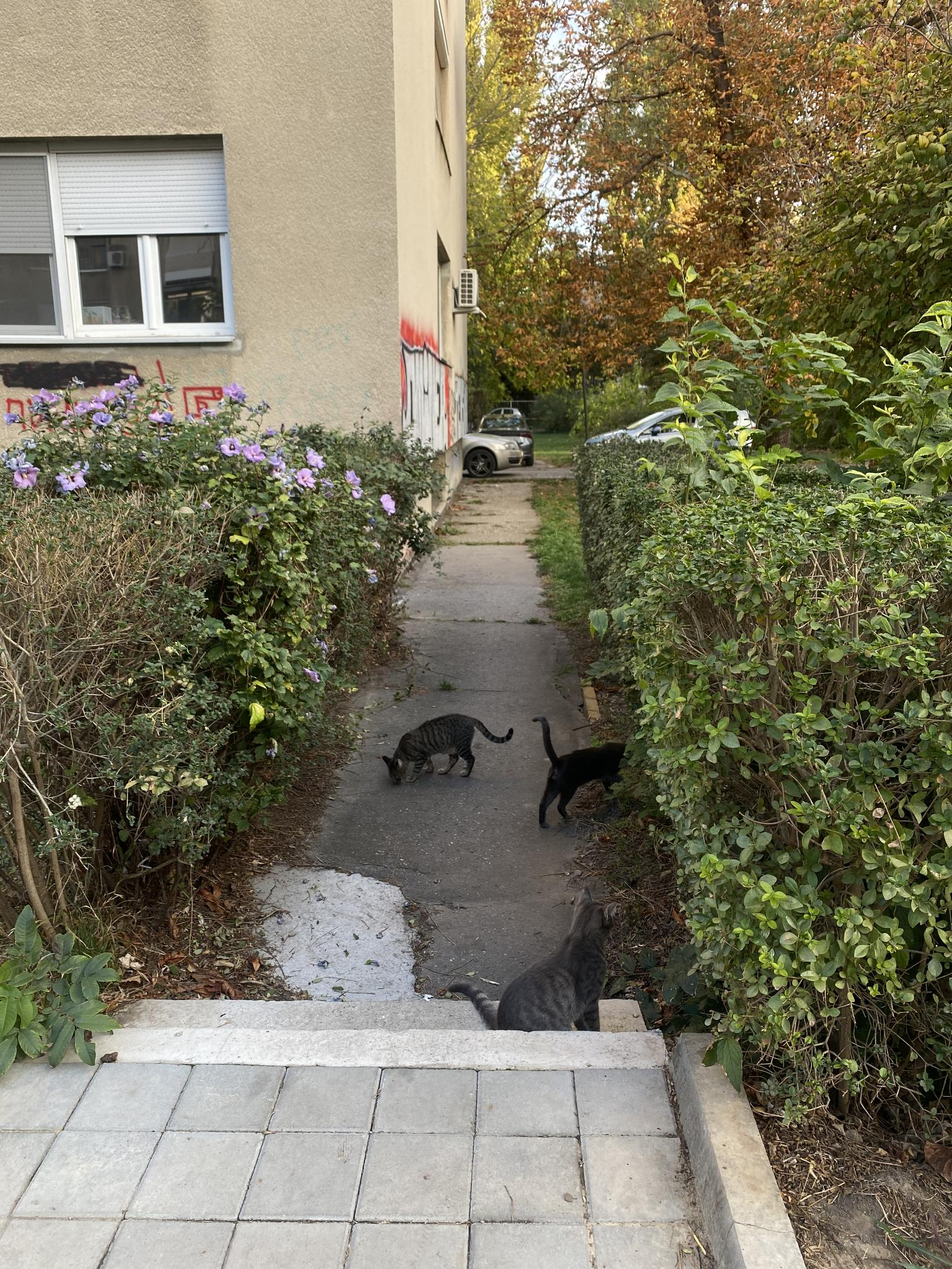macka: (448, 886, 616, 1032), (530, 717, 628, 829), (381, 715, 513, 786)
